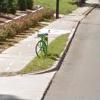Bicycle: (32, 30, 50, 60)
